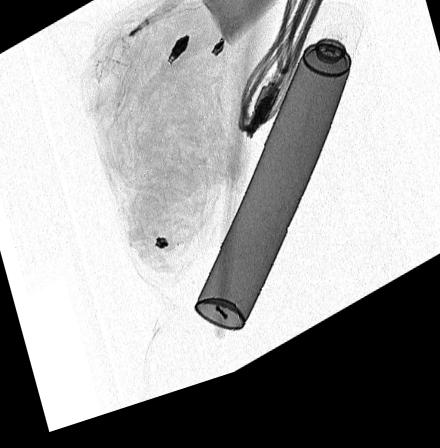Sprayer: (194, 21, 364, 343)
